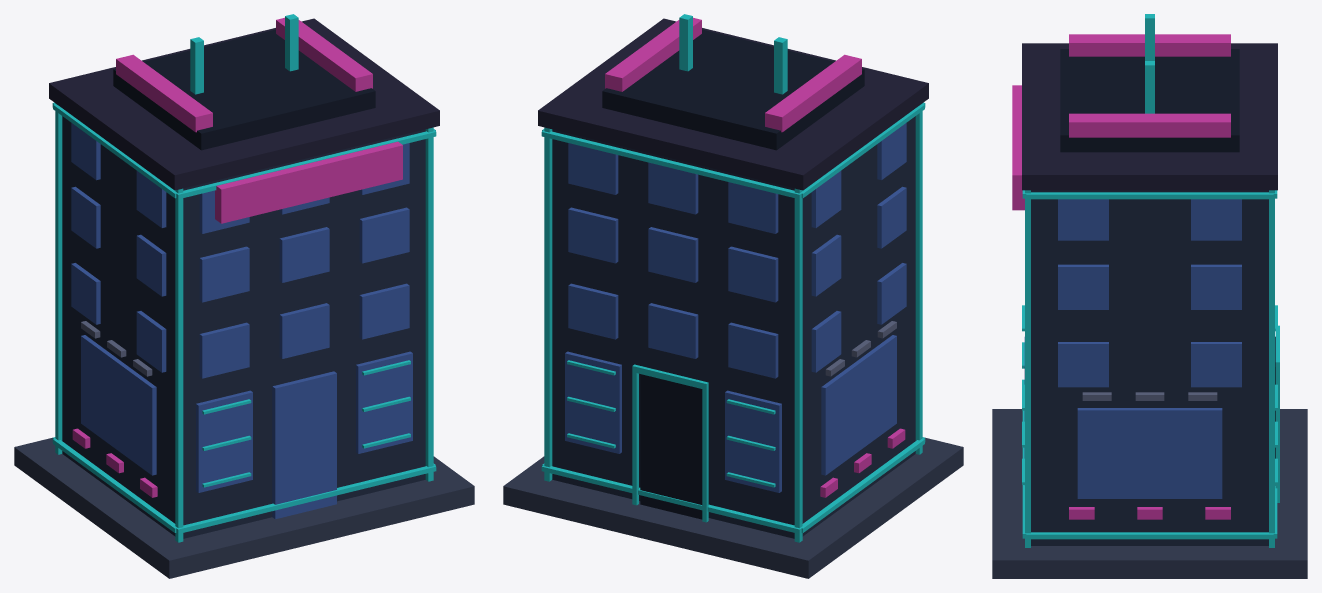
File: Neon_DataTower_Showcase.glb
The picture shows the model from 3 angles, left to right: view 1: azimuth 30°, elevation 25°; view 2: azimuth 150°, elevation 25°; view 3: azimuth 270°, elevation 25°; orthographic projection.
Parts seen in each view (by area): view 1: Neon_DataTower_Showcase; view 2: Neon_DataTower_Showcase; view 3: Neon_DataTower_Showcase.
Boxes of the visible parts, left/top/right/bottom form: Neon_DataTower_Showcase: left=14, top=14, right=474, bottom=578; Neon_DataTower_Showcase: left=503, top=14, right=963, bottom=578; Neon_DataTower_Showcase: left=992, top=14, right=1307, bottom=578.
Size of the model in its own units: 4.2 by 6 by 3.7.
